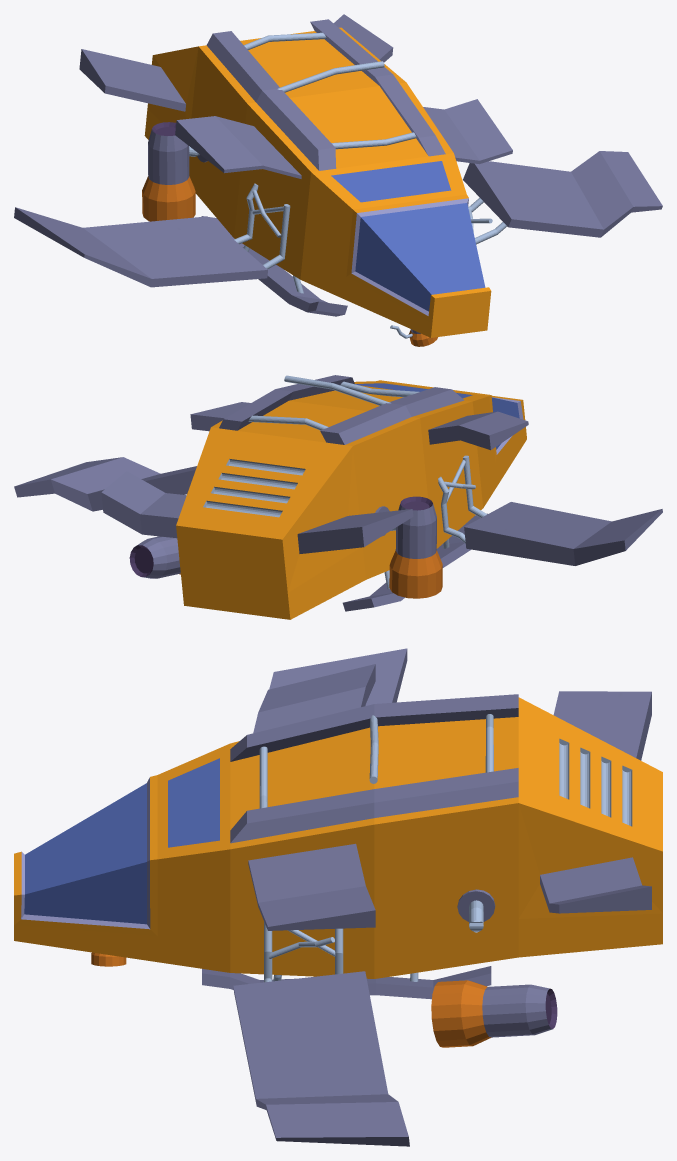
File: NaveRota.fbx
The picture shows the model from 3 angles, top to bottom: view 1: azimuth 30°, elevation 25°; view 2: azimuth 150°, elevation 25°; view 3: azimuth 270°, elevation 25°; orthographic projection. The views are drawn at different scales.
Parts seen in each view (by area): view 1: CuerpoNave.001, Ala.001, CristalNave.001, Cohete.001, TubosTecho.001, TubosAla.001; view 2: CuerpoNave.001, Ala.001, Cohete.001, TubosTecho.001, TubosAla.001, CristalNave.001; view 3: CuerpoNave.001, Ala.001, CristalNave.001, Cohete.001, TubosTecho.001, TubosAla.001.
Boxes of the visible parts, x1,y1,x2,y2 form: CuerpoNave.001: (79,14,512,337); Ala.001: (14,151,662,287); CristalNave.001: (331,161,485,311); Cohete.001: (142,122,207,221); TubosTecho.001: (244,32,416,149); TubosAla.001: (234,183,506,269); CuerpoNave.001: (101,375,528,619); Ala.001: (14,457,662,565); Cohete.001: (129,496,442,598); TubosTecho.001: (248,375,419,430); TubosAla.001: (438,455,486,543); CristalNave.001: (355,383,519,449); CuerpoNave.001: (14,664,662,999); Ala.001: (233,648,409,1146); CristalNave.001: (24,758,219,924); Cohete.001: (431,889,557,1047); TubosTecho.001: (259,714,493,808); TubosAla.001: (264,921,343,982).
Bounding box in the file's own units: 1517 × 476 × 1121.
